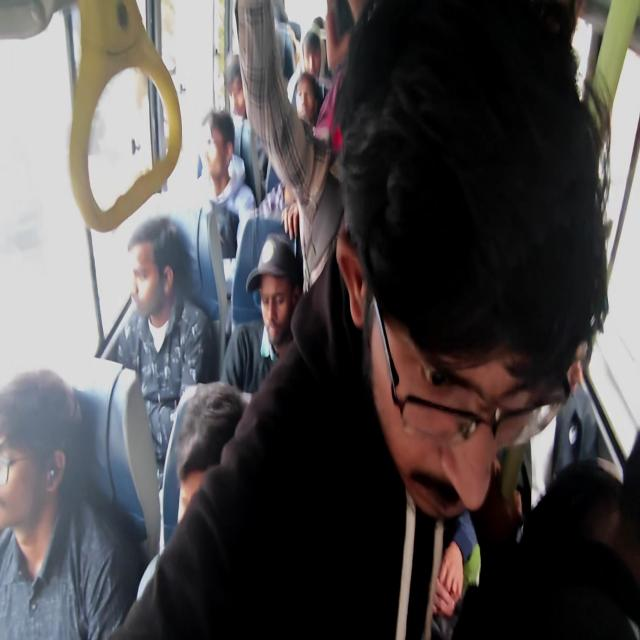person: (353, 64, 534, 516), (0, 405, 130, 560), (129, 223, 220, 399), (254, 269, 318, 400), (188, 416, 242, 490), (265, 168, 319, 231), (224, 51, 268, 124), (264, 0, 313, 62), (202, 115, 244, 182), (293, 84, 323, 144), (302, 26, 326, 70), (313, 17, 327, 37)
